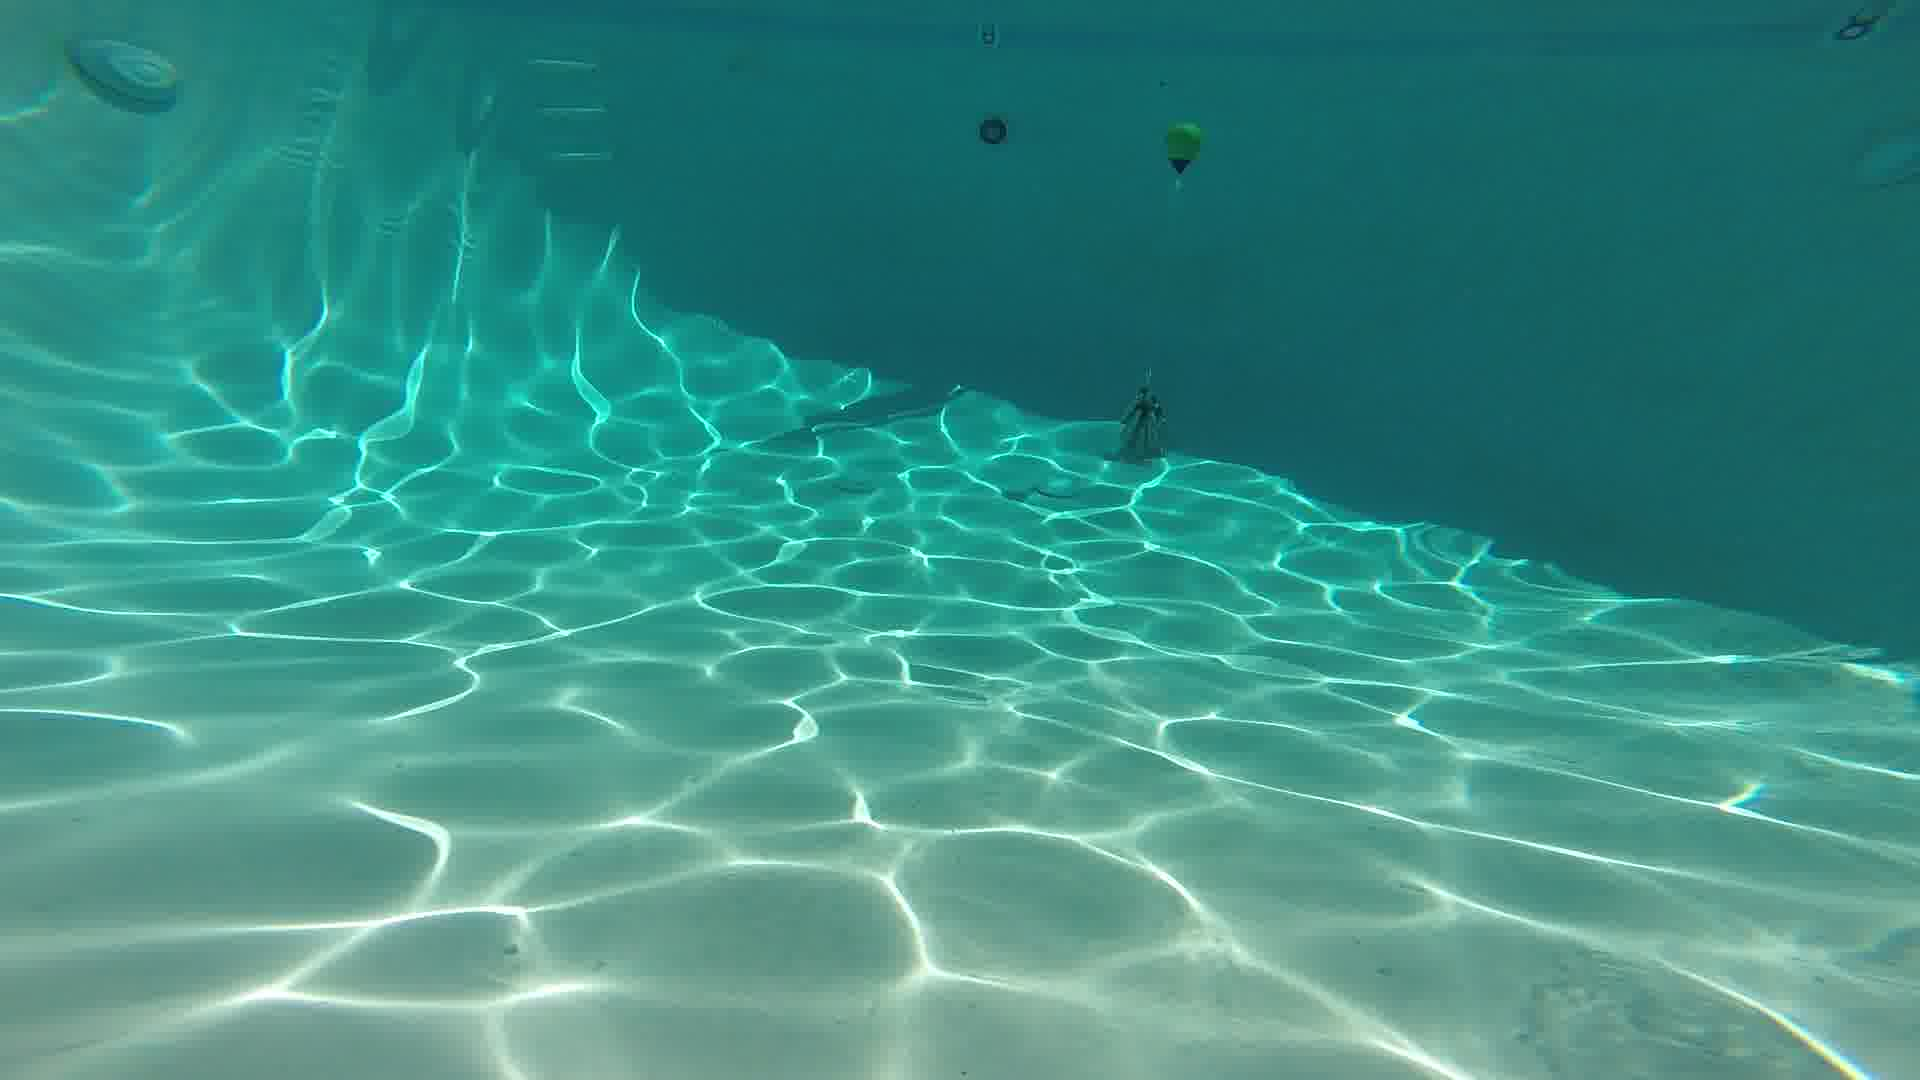yellow_buoy: (1167, 124, 1200, 178)
